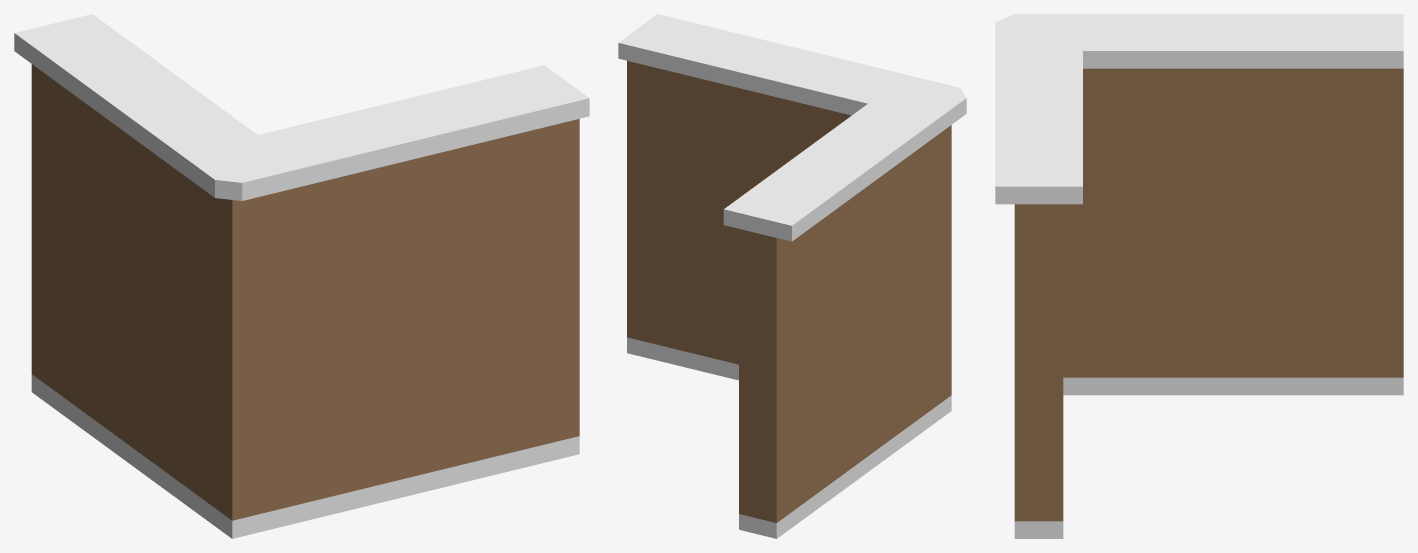
Rendered from SM_4x4m_HalfWall_Corner.fbx.
The picture shows the model from 3 angles, left to right: view 1: azimuth 30°, elevation 25°; view 2: azimuth 150°, elevation 25°; view 3: azimuth 270°, elevation 25°; orthographic projection. The views are drawn at different scales.
Visible parts, largest first — view 1: SM_4x2m_HalfWall_Corner.001; view 2: SM_4x2m_HalfWall_Corner.001; view 3: SM_4x2m_HalfWall_Corner.001.
Part boxes in pixels (left/top/right/bottom): SM_4x2m_HalfWall_Corner.001: left=14, top=14, right=589, bottom=538; SM_4x2m_HalfWall_Corner.001: left=618, top=14, right=966, bottom=538; SM_4x2m_HalfWall_Corner.001: left=995, top=14, right=1403, bottom=538.
Size of the model in its own units: 210 by 210 by 200.
